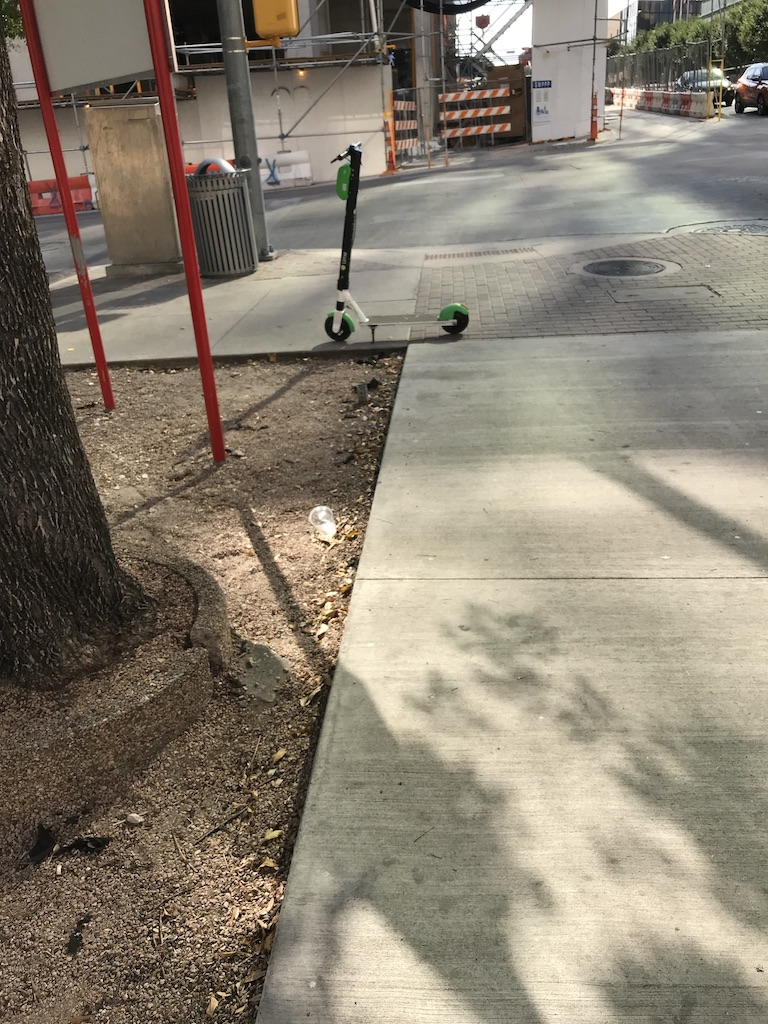scooter: (325, 142, 470, 343)
